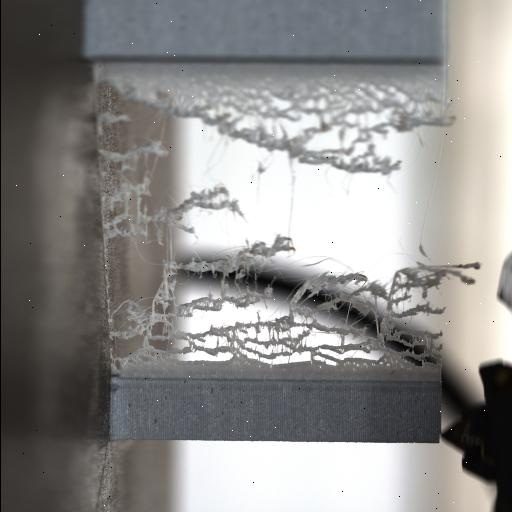stringing: (102, 116, 480, 376)
